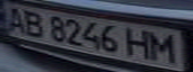2: (63, 17, 84, 47)
4: (81, 20, 103, 52)
6: (100, 22, 124, 55)
8: (42, 14, 69, 43)
A: (0, 3, 30, 34)
B: (18, 8, 48, 38)
H: (124, 26, 154, 60)
M: (148, 30, 184, 65)
